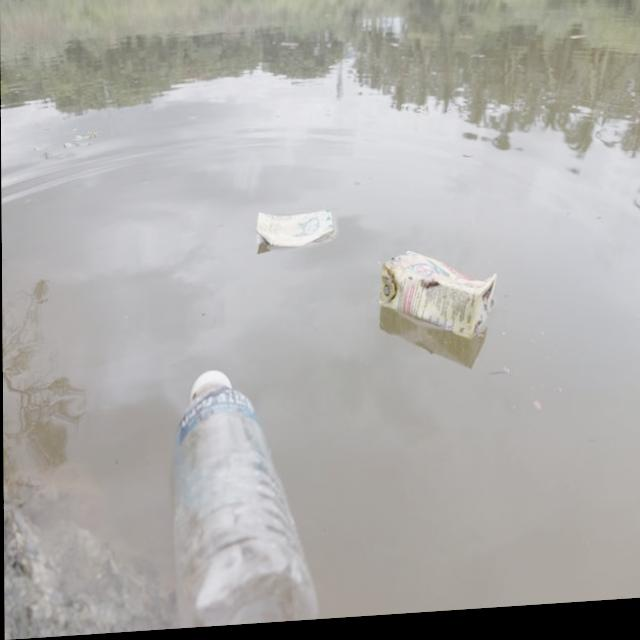paper: (365, 244, 509, 350), (252, 186, 331, 271)
waterbottle: (166, 358, 315, 631)
